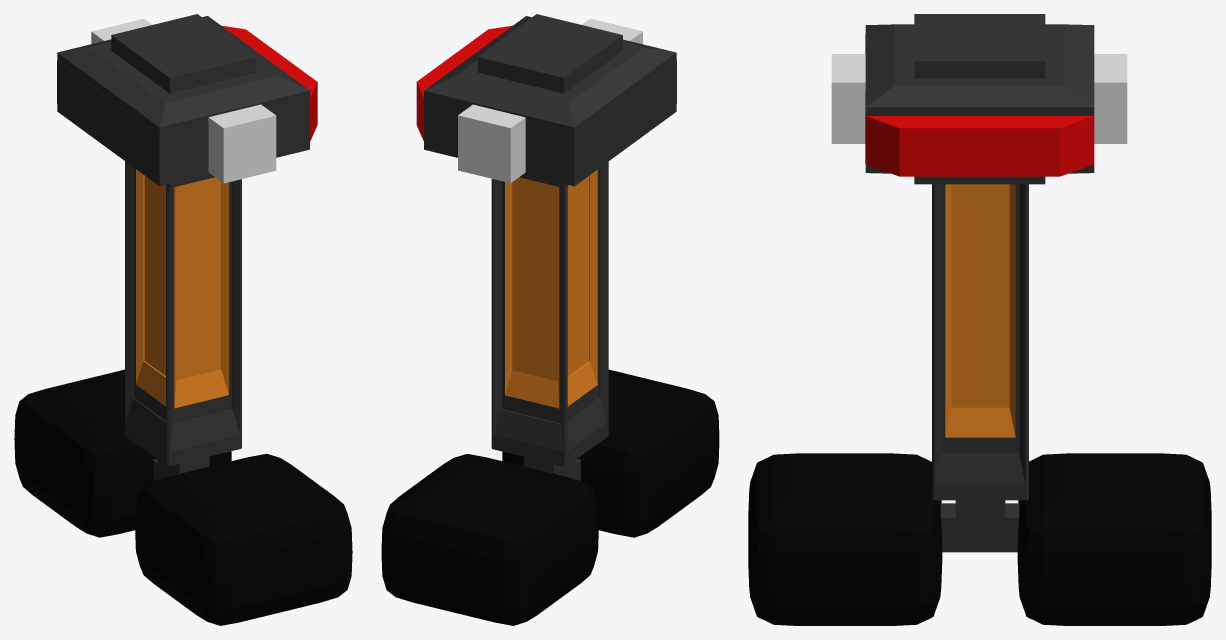
File: SecurityLBot.fbx
3 renders of one model, left to right at view 1: azimuth 30°, elevation 25°; view 2: azimuth 150°, elevation 25°; view 3: azimuth 270°, elevation 25°, orthographic. The views are drawn at different scales.
Visible parts, largest first — view 1: LaserGun, Body, Wheels, Wheels.001; view 2: LaserGun, Body, Wheels.001, Wheels; view 3: LaserGun, Wheels, Wheels.001, Body, Cube.
Part boxes in pixels (<box>): LaserGun: <box>57,14,317,187</box>; Body: <box>125,161,241,475</box>; Wheels: <box>135,453,352,625</box>; Wheels.001: <box>14,369,231,537</box>; LaserGun: <box>416,14,676,187</box>; Body: <box>491,161,608,475</box>; Wheels.001: <box>381,454,598,625</box>; Wheels: <box>502,369,719,537</box>; LaserGun: <box>831,14,1127,184</box>; Wheels: <box>748,453,942,625</box>; Wheels.001: <box>1017,453,1211,625</box>; Body: <box>932,184,1028,518</box>; Cube: <box>940,503,1019,552</box>.
Size of the model in its own units: 115 by 318 by 239.
